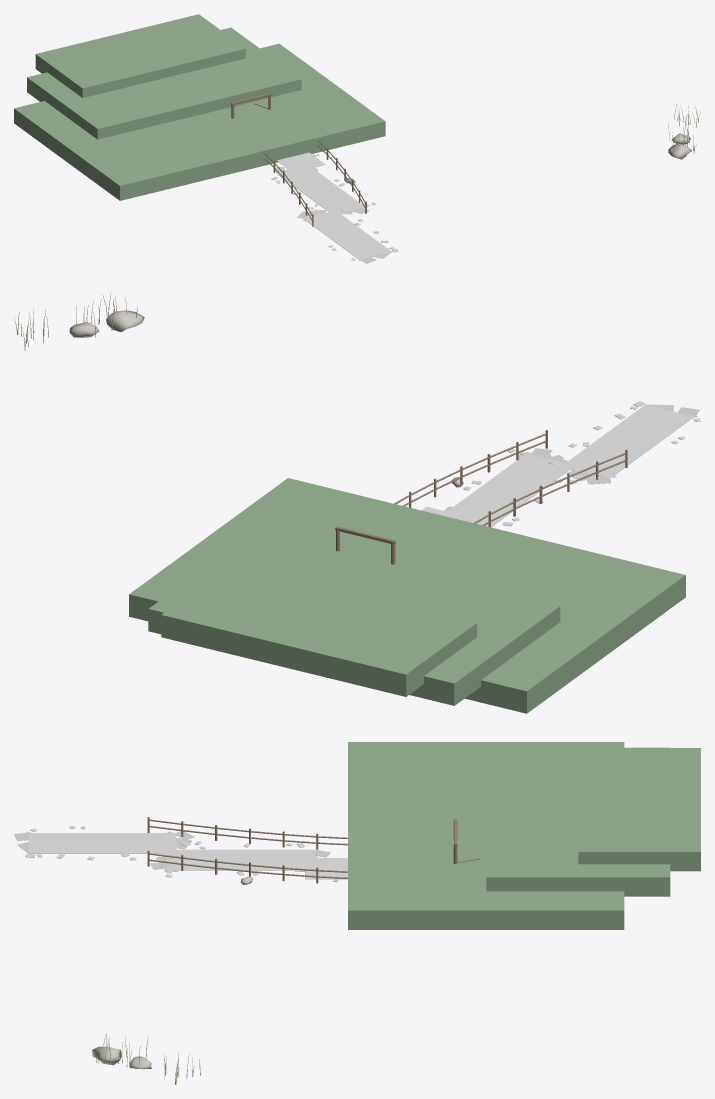
3 renders of one model, top to bottom at view 1: azimuth 30°, elevation 25°; view 2: azimuth 150°, elevation 25°; view 3: azimuth 270°, elevation 25°, orthographic. The views are drawn at different scales.
Parts seen in each view (by area): view 1: p0_m3; view 2: p0_m3; view 3: p0_m3.
Boxes of the visible parts, box(x1,y1,x2,y2) form: p0_m3: box(14, 14, 700, 263); p0_m3: box(14, 292, 700, 713); p0_m3: box(14, 742, 700, 1084).
Bounding box in the file's own units: 50.41 × 3.57 × 44.78.
